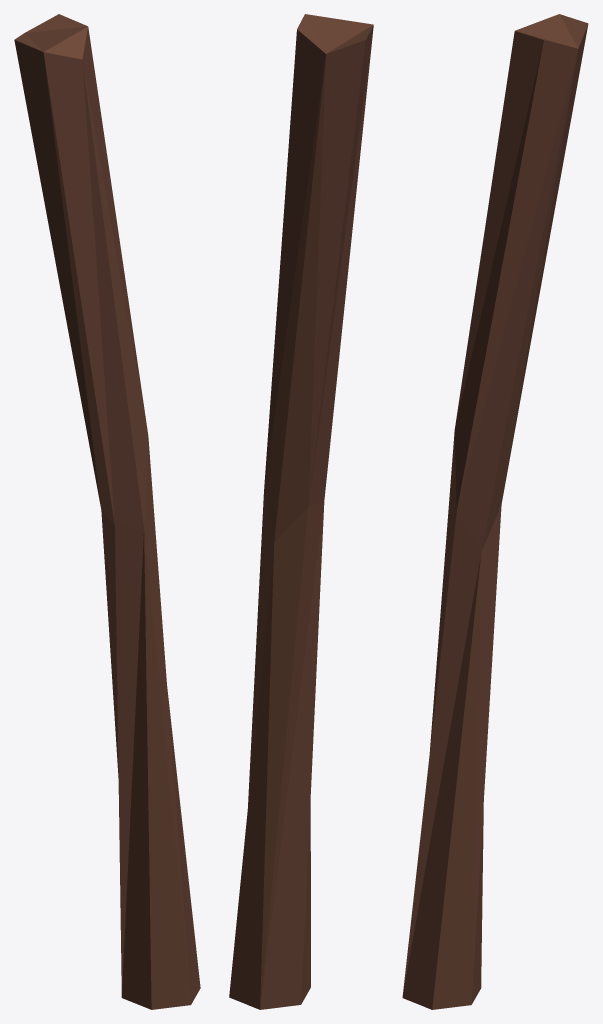
File: Wooden Stick_7.fbx
3 views of the same model, side by side, from view 1: azimuth 90°, elevation 25°; view 2: azimuth 210°, elevation 25°; view 3: azimuth 270°, elevation 25° (orthographic). The views are drawn at different scales.
Visible parts, largest first — view 1: Wooden Stick_7.001; view 2: Wooden Stick_7.001; view 3: Wooden Stick_7.001.
Part boxes in pixels (box(x1,y1,x2,y2)): Wooden Stick_7.001: box(14, 14, 200, 1009); Wooden Stick_7.001: box(229, 14, 373, 1009); Wooden Stick_7.001: box(402, 14, 588, 1009).
Bounding box in the file's own units: 0.1256 × 1.55 × 0.27.
